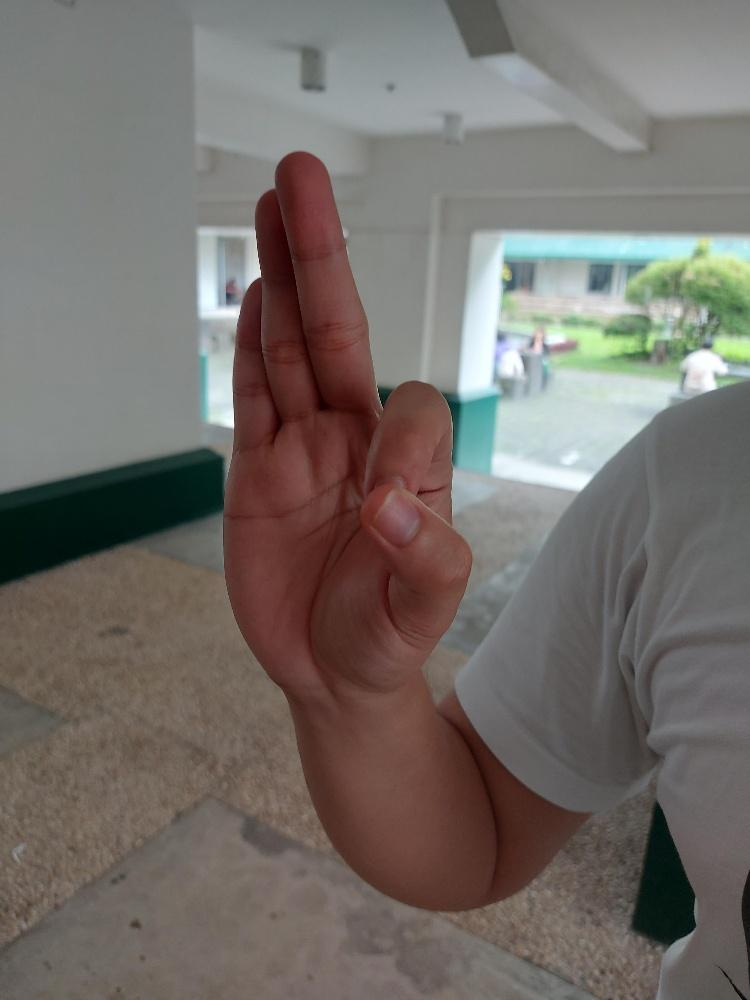f: (217, 146, 477, 702)
